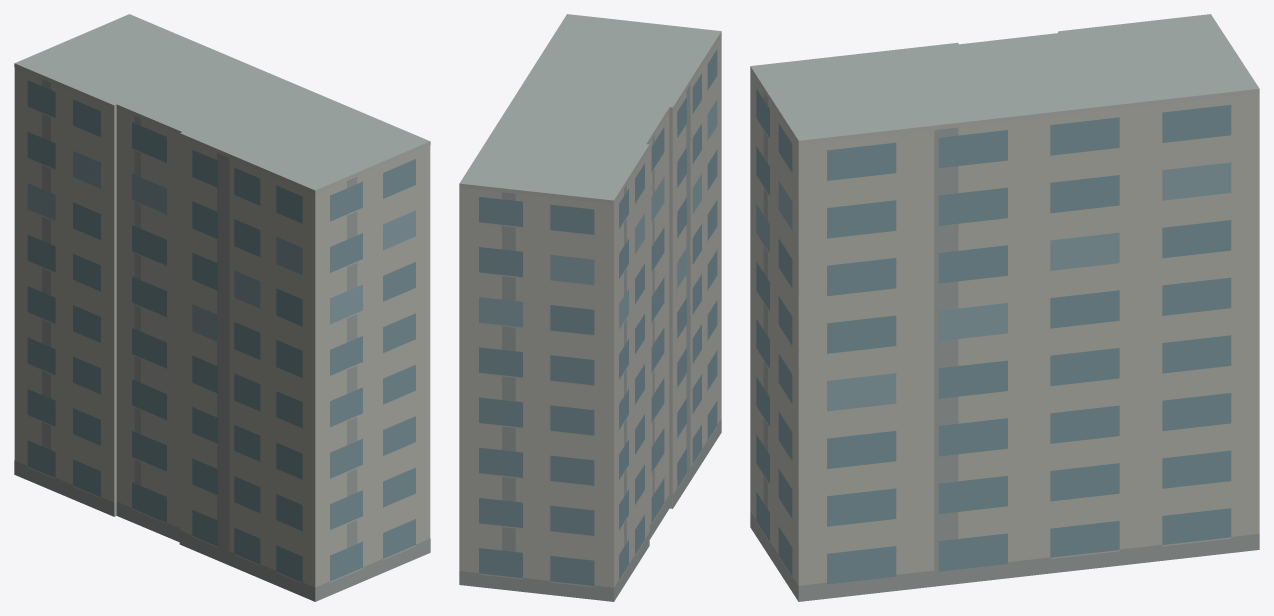
The model's file is survey-upis-32564025.glb.
The picture shows the model from 3 angles, left to right: view 1: azimuth 30°, elevation 25°; view 2: azimuth 150°, elevation 25°; view 3: azimuth 270°, elevation 25°; orthographic projection. The views are drawn at different scales.
Parts seen in each view (by area): view 1: survey-upis-32564025.tmp; view 2: survey-upis-32564025.tmp; view 3: survey-upis-32564025.tmp.
Part boxes in pixels (bbox=[...]): survey-upis-32564025.tmp: bbox=[14, 14, 430, 601]; survey-upis-32564025.tmp: bbox=[459, 14, 721, 601]; survey-upis-32564025.tmp: bbox=[750, 14, 1259, 601].
Size of the model in its own units: 14.41 by 24.4 by 24.44.
